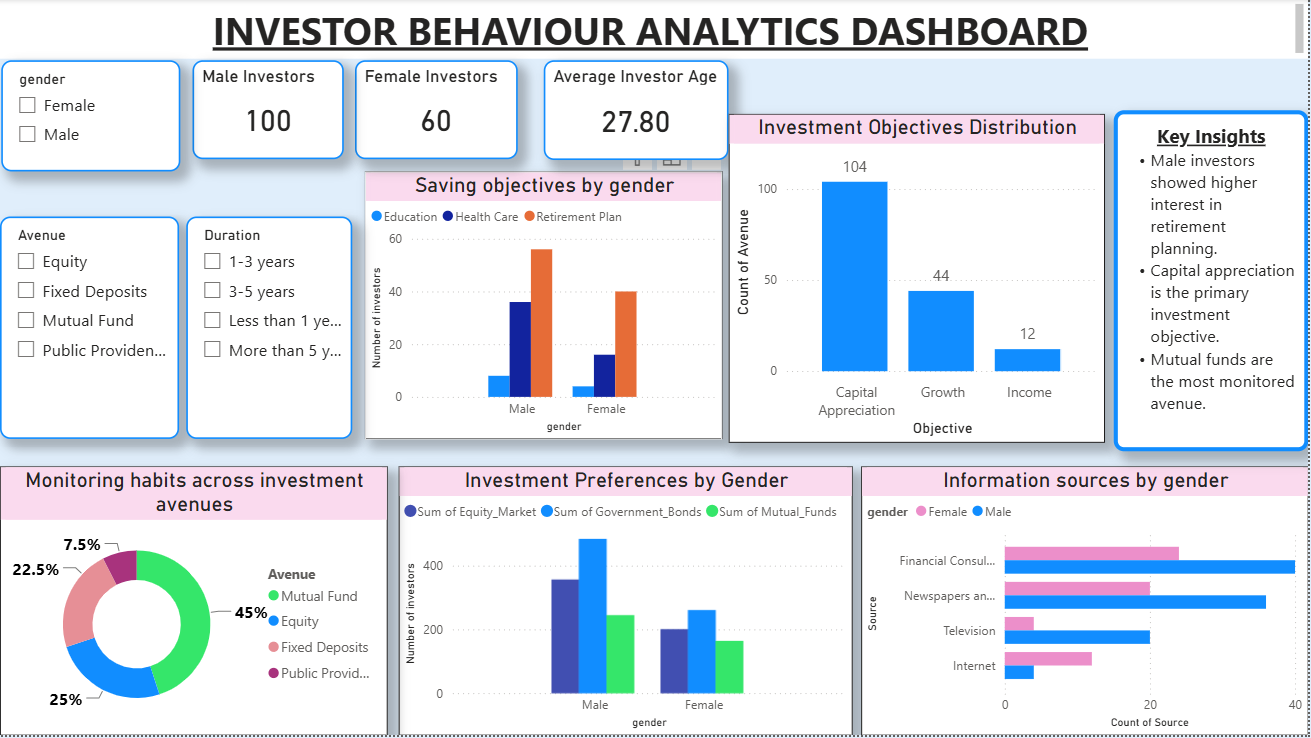

This screenshot's page, from the dashboard's own definition file:
{"tool":"powerbi","page":{"name":"Page 1","canvas":[1280,720],"ordinal":0},"visuals":[{"type":"textbox","box":[0,0,1280.3,58.7],"z":0},{"type":"clusteredColumnChart","title":"Saving objectives by gender","fields":{"Category":["Data_set 2.gender"],"Series":["Data_set 2.What are your savings objectives?"],"Y":["CountNonNull(Data_set 2.What are your savings objectives?)"]},"box":[357.1,168.8,349.7,261.7],"z":1000},{"type":"card","title":"Average Investor Age","fields":{"Values":["Data_set 2.average age"]},"box":[531.9,59.9,181,97.8],"z":2000},{"type":"clusteredColumnChart","title":"Investment Preferences by Gender","fields":{"Category":["Data_set 2.gender"],"Y":["Sum(Data_set 2.Equity_Market)","Sum(Data_set 2.Government_Bonds)","Sum(Data_set 2.Mutual_Funds)"]},"box":[390.1,457.3,443.9,262.9],"z":3000},{"type":"card","title":"Female Investors","fields":{"Values":["Data_set 2.female"]},"box":[347.3,59.9,159,96.6],"z":4000},{"type":"card","title":"Male Investors","fields":{"Values":["Data_set 2.Male"]},"box":[188.3,59.9,148,96.6],"z":5000},{"type":"columnChart","title":"Investment Objectives Distribution","fields":{"Category":["Data_set 2.Objective"],"Y":["CountNonNull(Data_set 2.Avenue)"]},"box":[712.9,112.5,368.1,321.6],"z":6000},{"type":"slicer","fields":{"Values":["Data_set 2.Avenue"]},"box":[0,212.8,174.9,217.7],"z":7000},{"type":"donutChart","title":"Monitoring habits across investment avenues","fields":{"Y":["CountNonNull(Data_set 2.Invest_Monitor)"],"Category":["Data_set 2.Avenue"]},"box":[0,457.3,379.1,262.9],"z":8000},{"type":"clusteredBarChart","title":"Information sources by gender","fields":{"Category":["Data_set 2.Source"],"Y":["CountNonNull(Data_set 2.Source)"],"Series":["Data_set 2.gender"]},"box":[842.5,457.3,437.8,262.9],"z":9000},{"type":"slicer","fields":{"Values":["Data_set 2.gender"]},"box":[1.2,59.9,174.9,108.8],"z":10000},{"type":"slicer","fields":{"Values":["Data_set 2.Duration"]},"box":[182.2,212.8,162.6,217.7],"z":11000},{"type":"textbox","box":[1089.5,108.8,190.8,333.8],"z":12000}]}

Visuals, with their boxes in screenshot pixels (x1, y1, x2, y2), scaled from the page's 1280x720 canvas onto the 1311x738 screenshot:
textbox: bbox(0, 0, 1310, 60)
"Saving objectives by gender" clusteredColumnChart: bbox(366, 173, 724, 441)
"Average Investor Age" card: bbox(545, 61, 730, 162)
"Investment Preferences by Gender" clusteredColumnChart: bbox(400, 469, 854, 737)
"Female Investors" card: bbox(356, 61, 519, 160)
"Male Investors" card: bbox(193, 61, 344, 160)
"Investment Objectives Distribution" columnChart: bbox(730, 115, 1107, 445)
slicer - Data_set 2.Avenue: bbox(0, 218, 179, 441)
"Monitoring habits across investment avenues" donutChart: bbox(0, 469, 388, 737)
"Information sources by gender" clusteredBarChart: bbox(863, 469, 1310, 737)
slicer - Data_set 2.gender: bbox(1, 61, 180, 173)
slicer - Data_set 2.Duration: bbox(187, 218, 353, 441)
textbox: bbox(1116, 112, 1310, 454)
